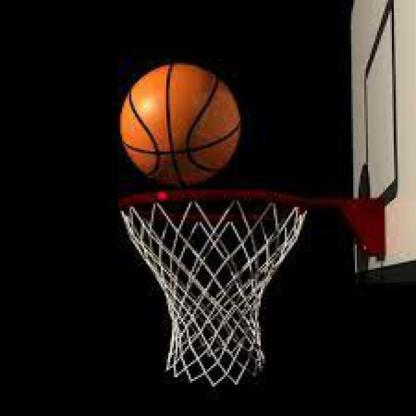basketball: (121, 63, 241, 185)
rim: (117, 187, 317, 241)
